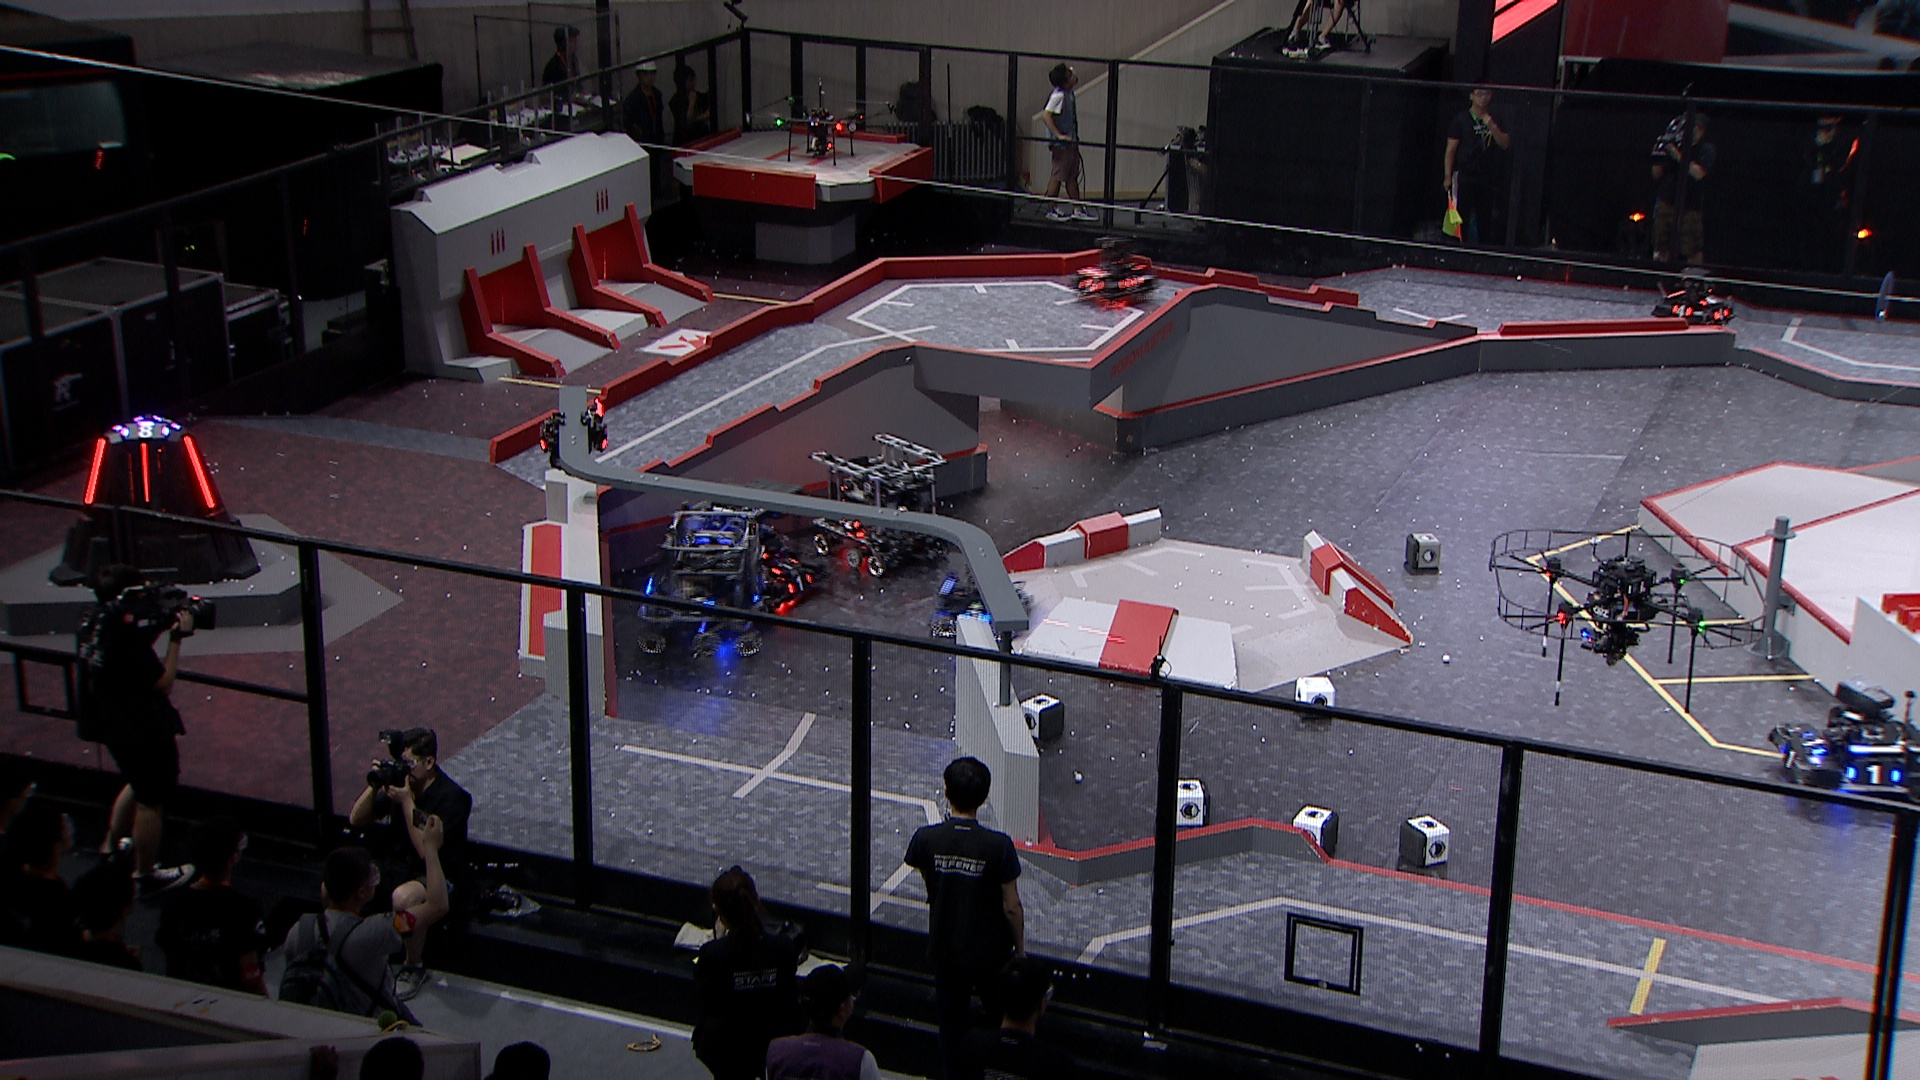armor: (183, 429, 216, 509), (83, 434, 105, 501), (1850, 765, 1902, 785), (138, 438, 152, 505), (124, 450, 136, 508), (1779, 746, 1803, 773), (770, 555, 796, 576), (1803, 731, 1822, 756), (790, 575, 814, 595), (690, 597, 713, 615), (1079, 276, 1101, 291), (1671, 302, 1693, 318), (1122, 276, 1145, 290), (1712, 305, 1727, 322), (1084, 266, 1105, 278), (839, 520, 858, 531), (1702, 295, 1720, 309)
base: (44, 411, 262, 591)
car: (632, 495, 767, 659), (1768, 670, 1920, 812), (807, 433, 948, 583), (707, 476, 820, 612), (926, 555, 1027, 647), (1073, 232, 1158, 306), (1651, 266, 1738, 328)
ignore: (121, 419, 167, 438)
watcher: (531, 392, 609, 484)
